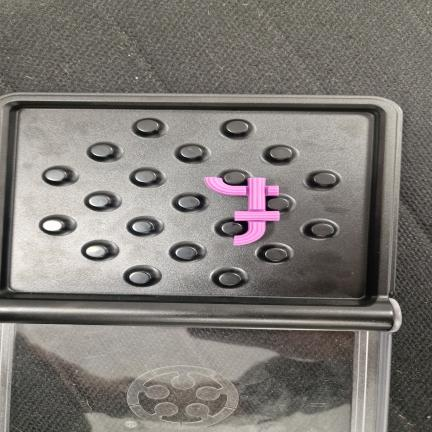H_Purple: (205, 178, 279, 245)
board: (0, 93, 402, 331)
hinge: (0, 292, 403, 331)
pin: (269, 146, 293, 161), (136, 119, 160, 133), (179, 145, 203, 159), (90, 144, 114, 158), (313, 172, 337, 186), (87, 194, 111, 208), (310, 223, 334, 237), (174, 246, 198, 260), (226, 120, 249, 134), (134, 170, 157, 184), (223, 171, 246, 185), (267, 197, 290, 211), (220, 221, 243, 235), (265, 248, 288, 262), (218, 272, 241, 286), (44, 169, 68, 182), (131, 220, 155, 233), (177, 196, 200, 209), (42, 219, 65, 232), (85, 245, 108, 258), (128, 271, 151, 284)
